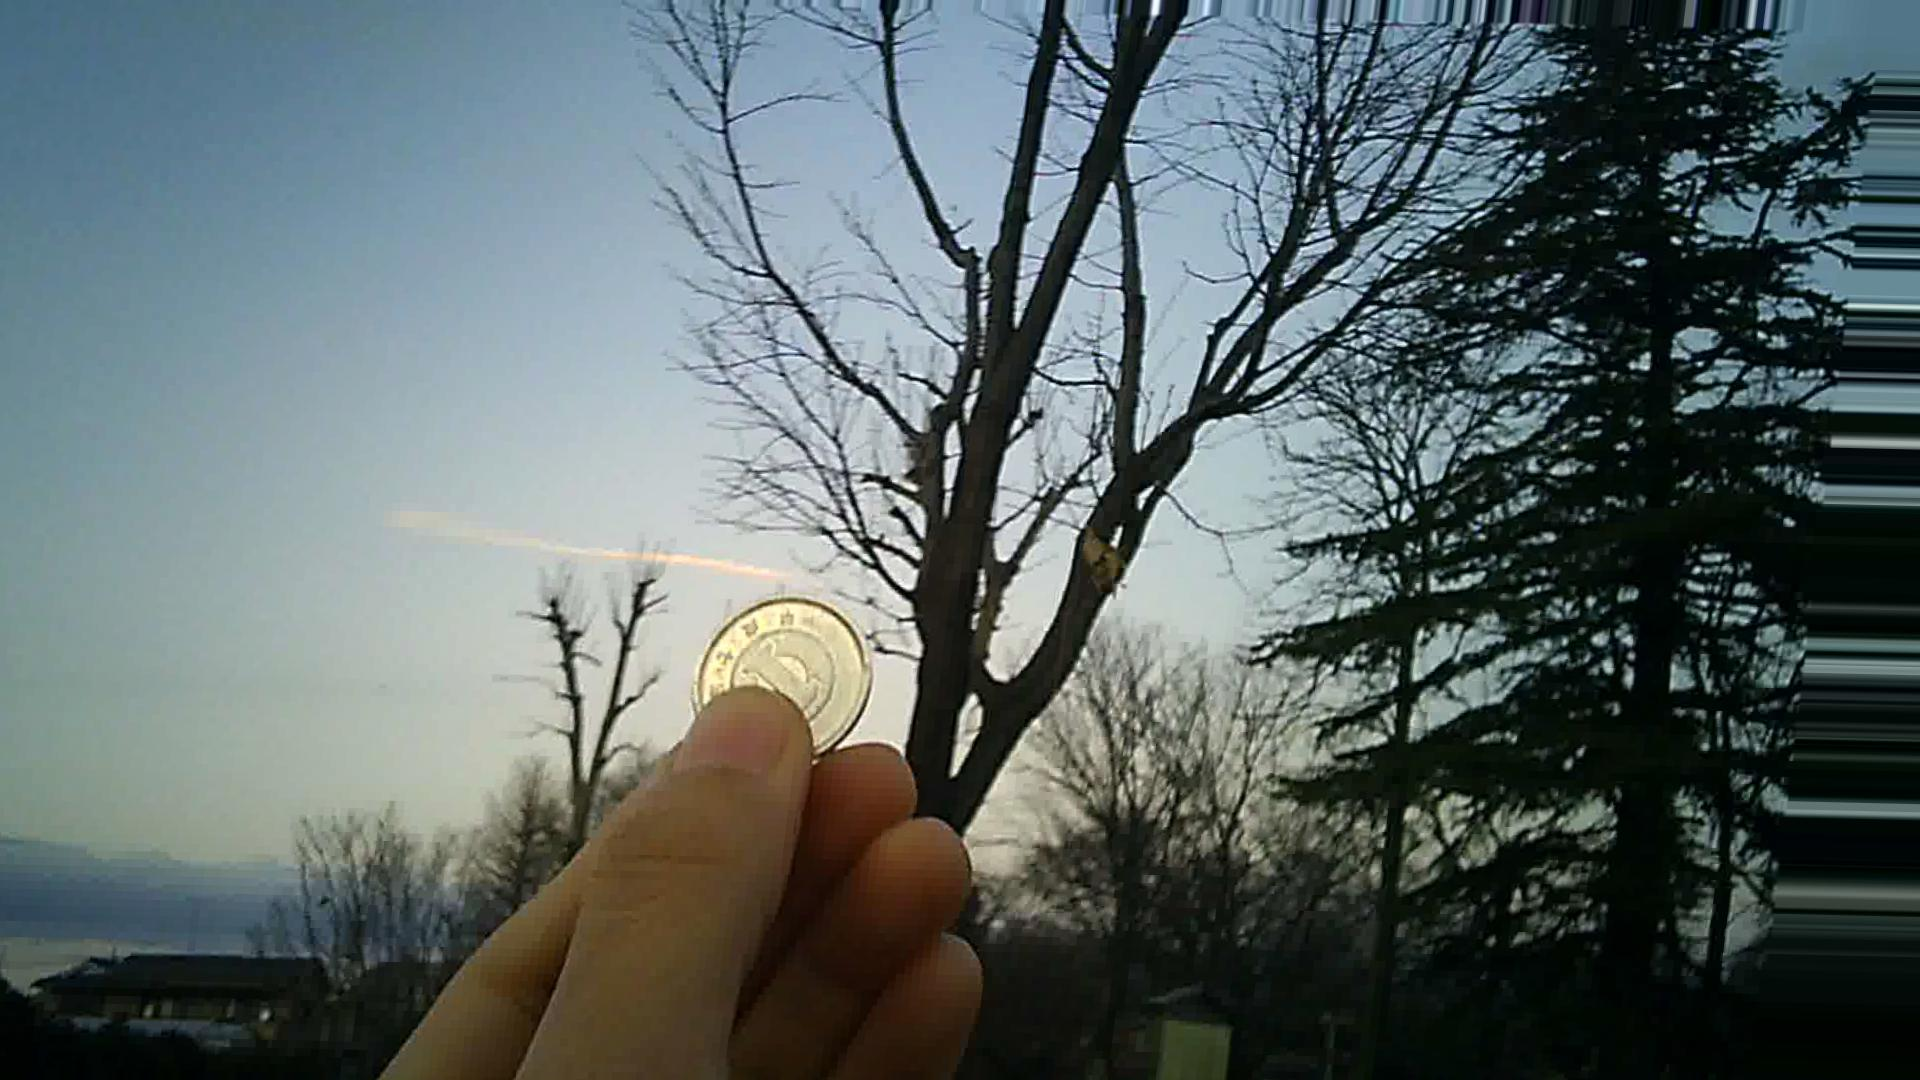1 Yen: (688, 588, 890, 756)
